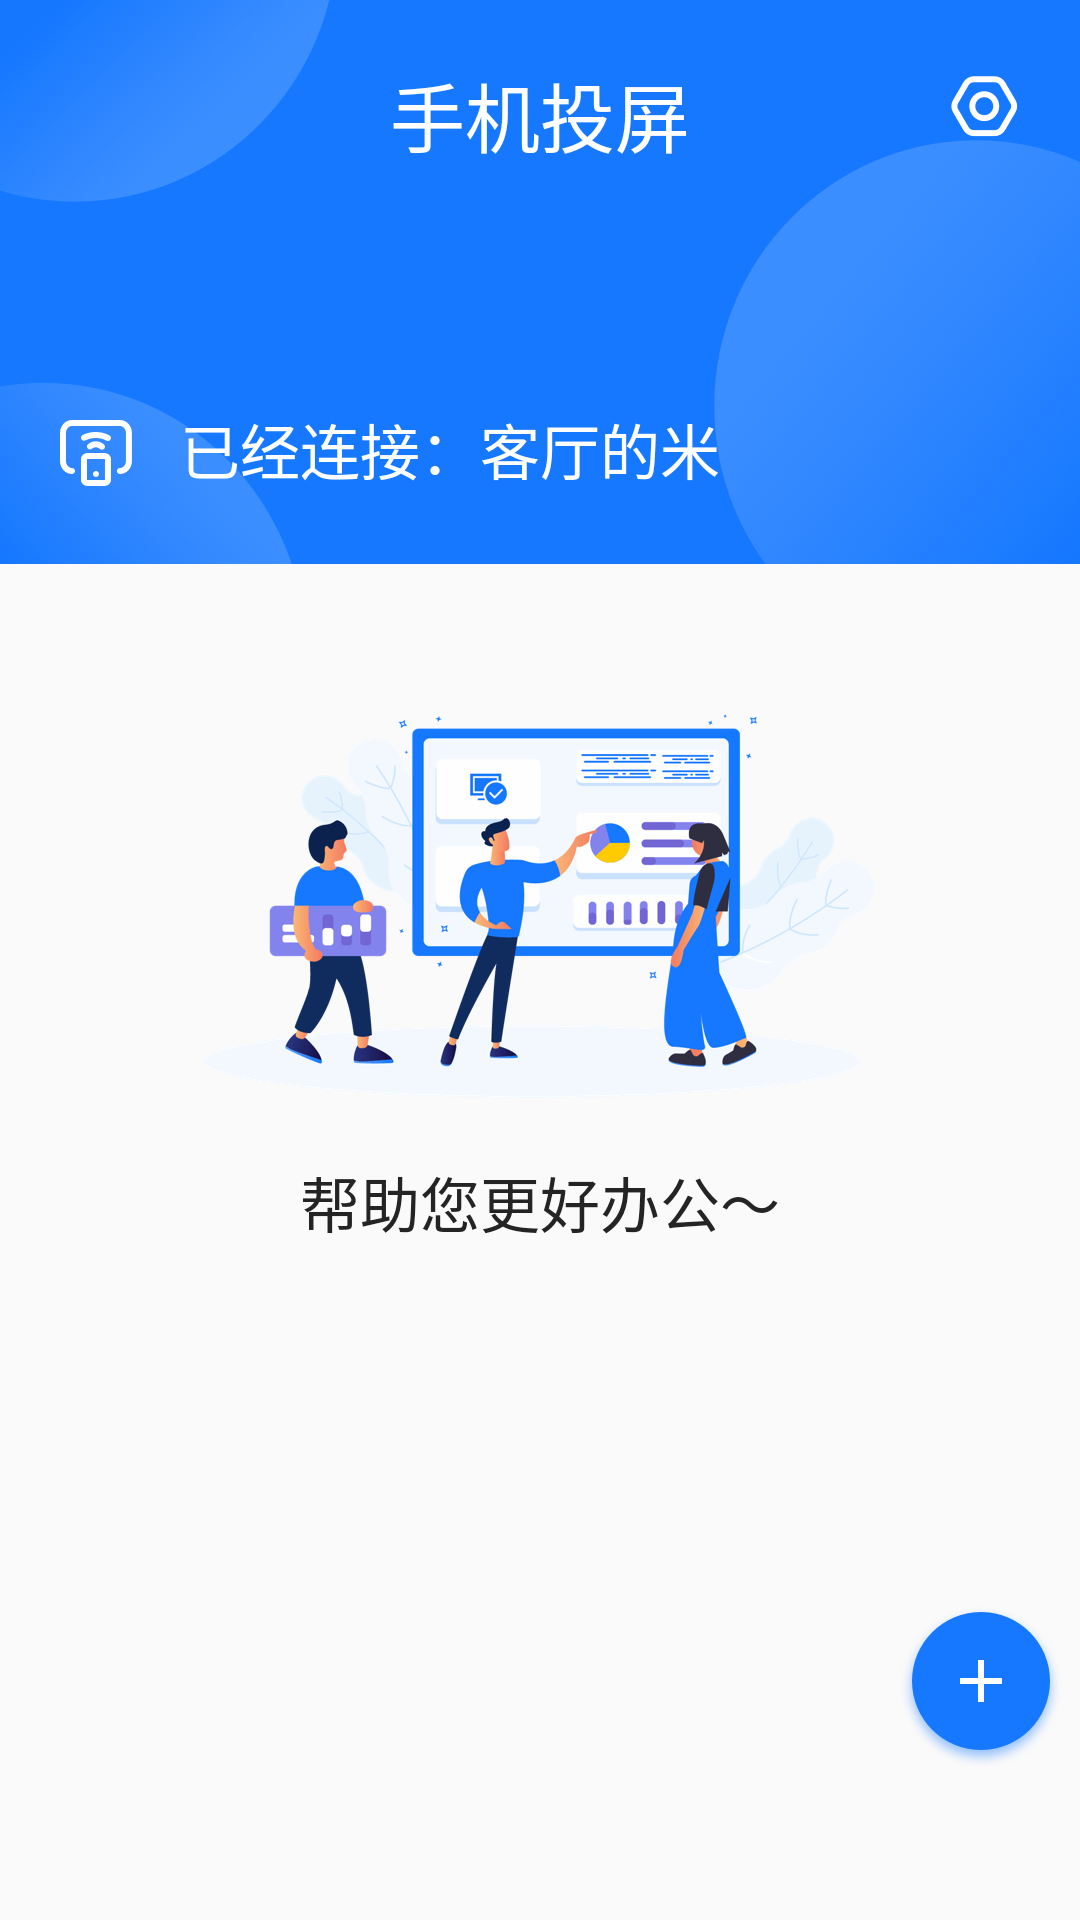

Named icons in this screenshot (1080*1920) and their bounding boxes, {"x1": x1, "y1": y1, "x2": x2, "y2": y2}:
file add: {"x1": 908, "y1": 1612, "x2": 1054, "y2": 1760}
setting: {"x1": 951, "y1": 76, "x2": 1018, "y2": 137}
